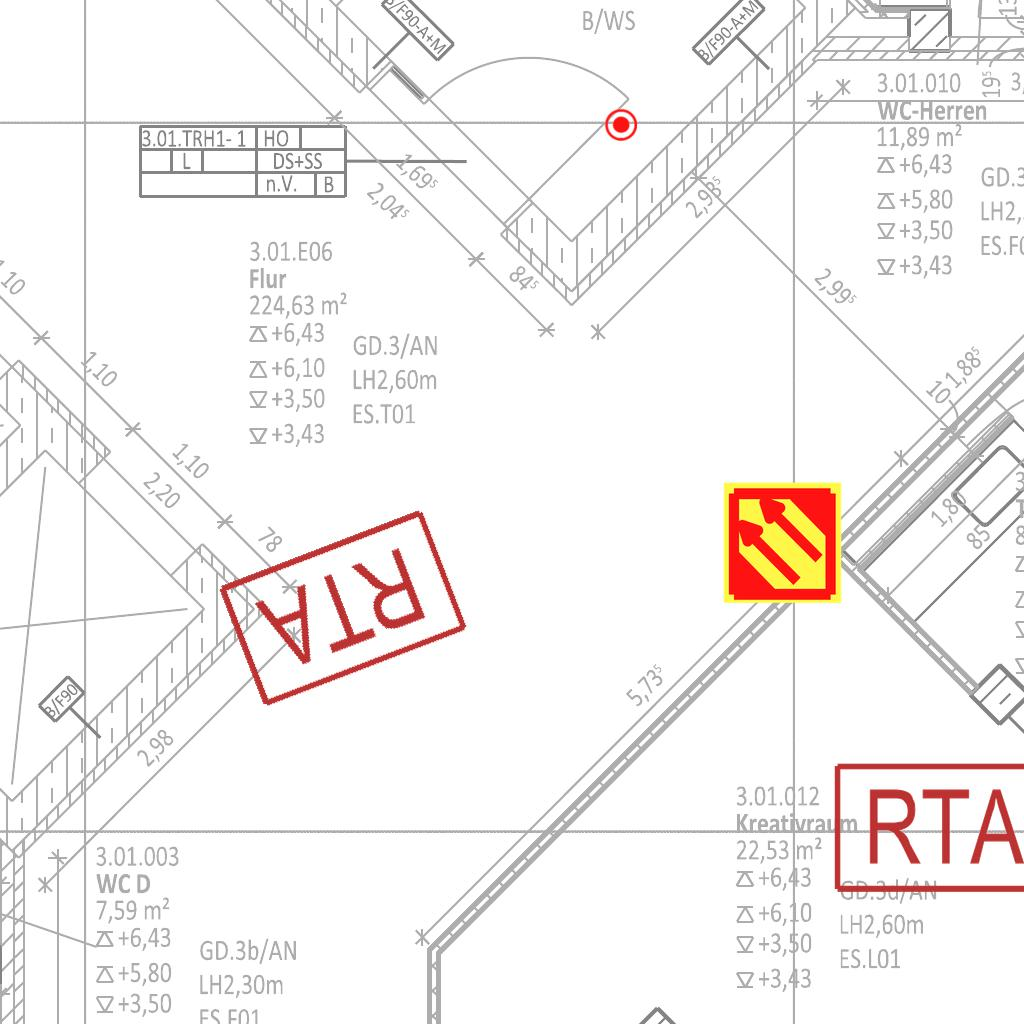ASR_Ansaugrauchmelder: (720, 480, 845, 605)
Ruf-und_Abstelltaster: (213, 501, 477, 713), (827, 759, 1024, 897)
Taster: (604, 108, 637, 141)
